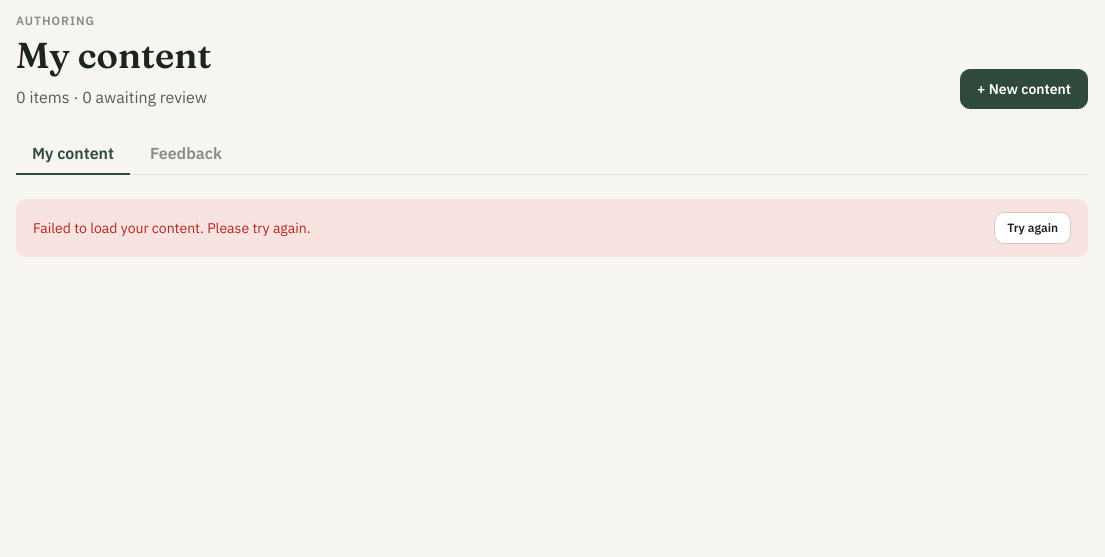
Test: AuthorDashboardScreen › invalid: a failed load shows the error and can be retried
Expected: the message with test id "error" shows "Failed to load your content", [33, 219, 310, 237]
Click the button "Try again" at (1033,228), box [994, 212, 1071, 244]
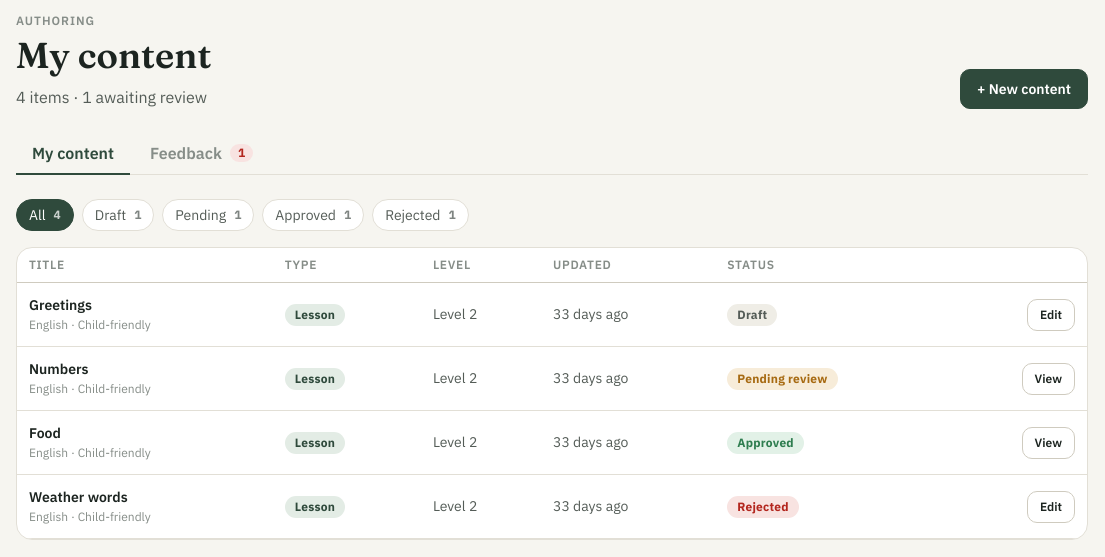
Expected: the number of rows with test id "content-row" is 4, [17, 283, 1087, 347]; [17, 347, 1087, 411]; [17, 411, 1087, 475]; [17, 475, 1087, 539]
